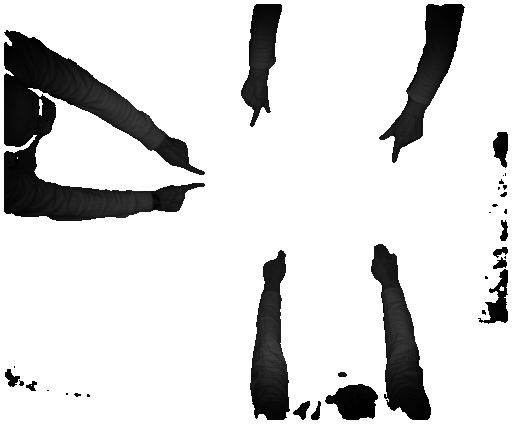hand: (376, 115, 428, 167), (163, 134, 207, 178), (156, 182, 207, 215), (368, 240, 405, 284), (240, 80, 271, 127), (256, 248, 287, 288)
